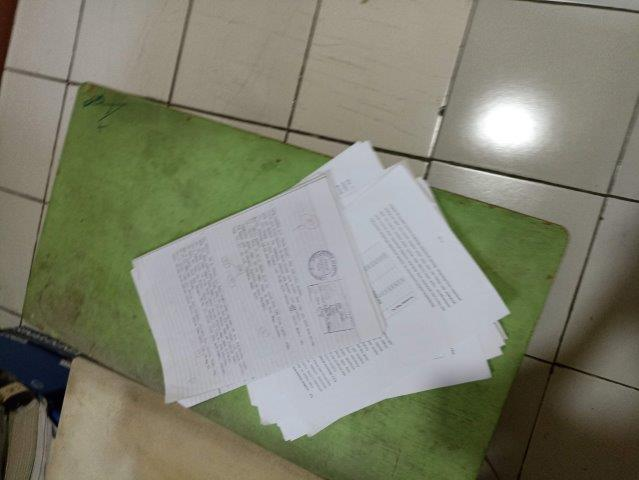kertas: (130, 140, 511, 438)
